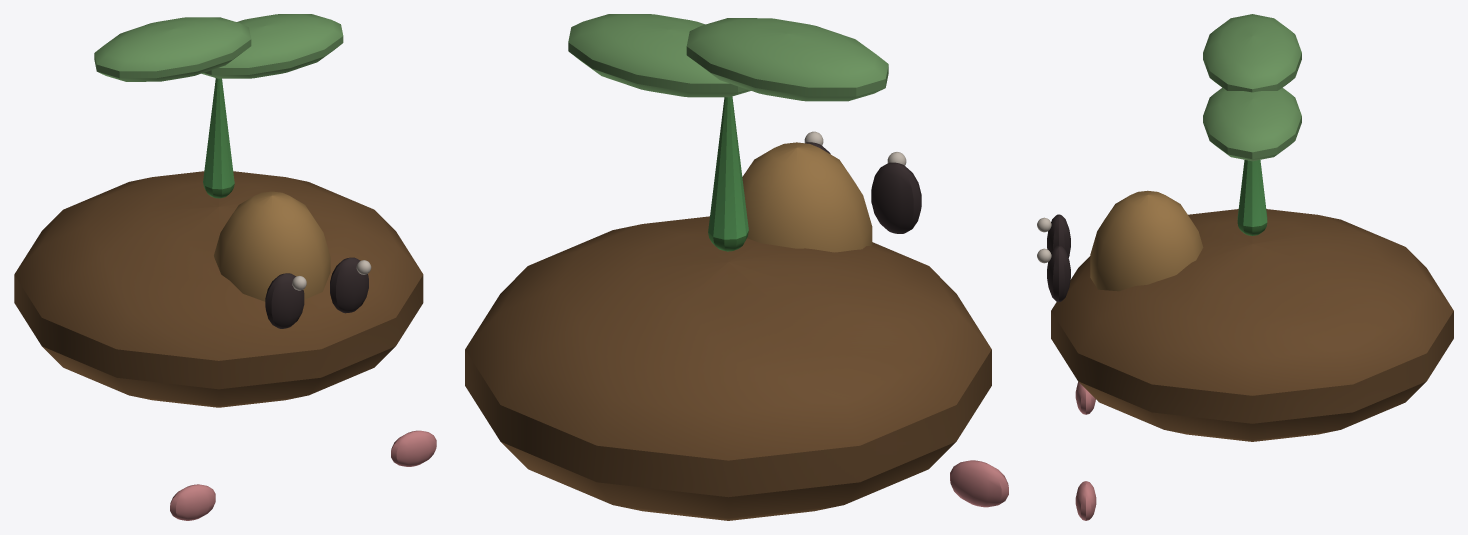
File: pdefa290d.glb
3 views of the same model, side by side, from view 1: azimuth 30°, elevation 25°; view 2: azimuth 150°, elevation 25°; view 3: azimuth 270°, elevation 25° (orthographic). The views are drawn at different scales.
Parts seen in each view (by area): view 1: pet_pdefa290d; view 2: pet_pdefa290d; view 3: pet_pdefa290d.
Boxes of the visible parts, x1=… form: pet_pdefa290d: x1=14, y1=14, x2=436, y2=520; pet_pdefa290d: x1=465, y1=14, x2=1008, y2=520; pet_pdefa290d: x1=1037, y1=14, x2=1453, y2=520.
Bounding box in the file's own units: 0.3851 × 0.4286 × 0.3984.
